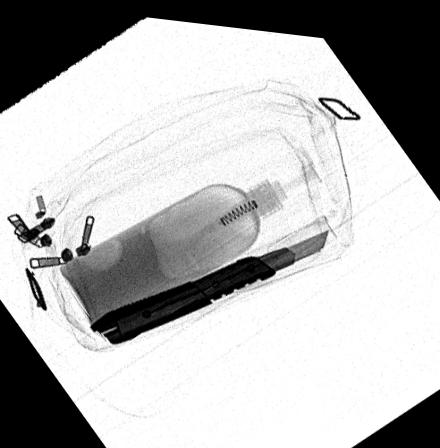Knife: (87, 219, 329, 342)
